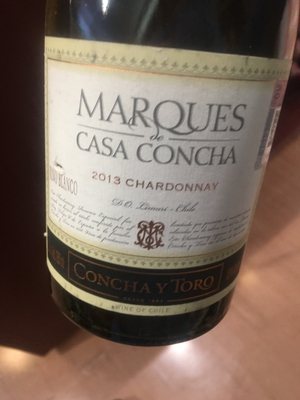marques de casa concha chardonnay: (31, 3, 285, 336)
